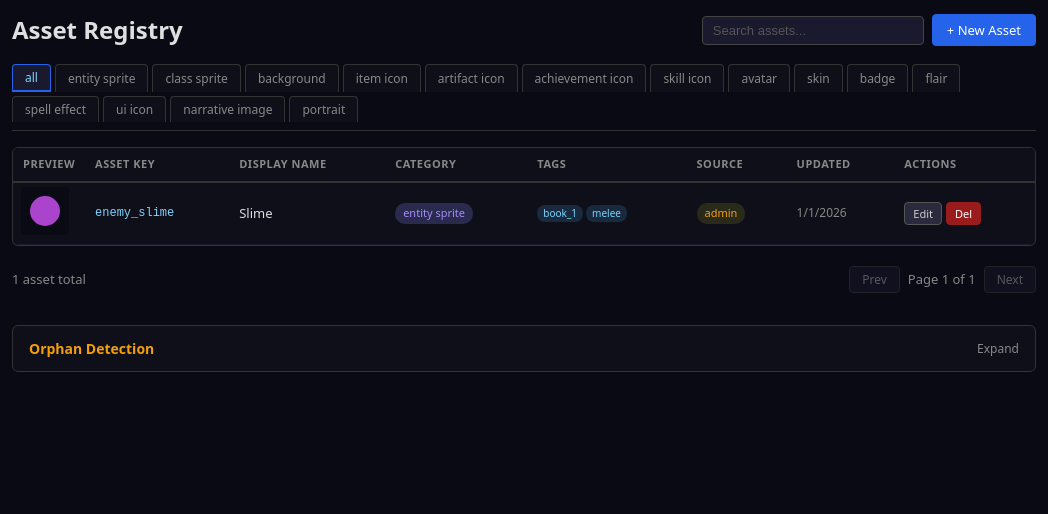
AssetRegistry › opening orphan panel fetches orphan data
This screenshot has width=1048, height=514.
Expected: the text "enemy_slime" is shown, [85, 182, 229, 244]
Click the heading "Orphan Detection": [92, 348] box [29, 338, 154, 359]
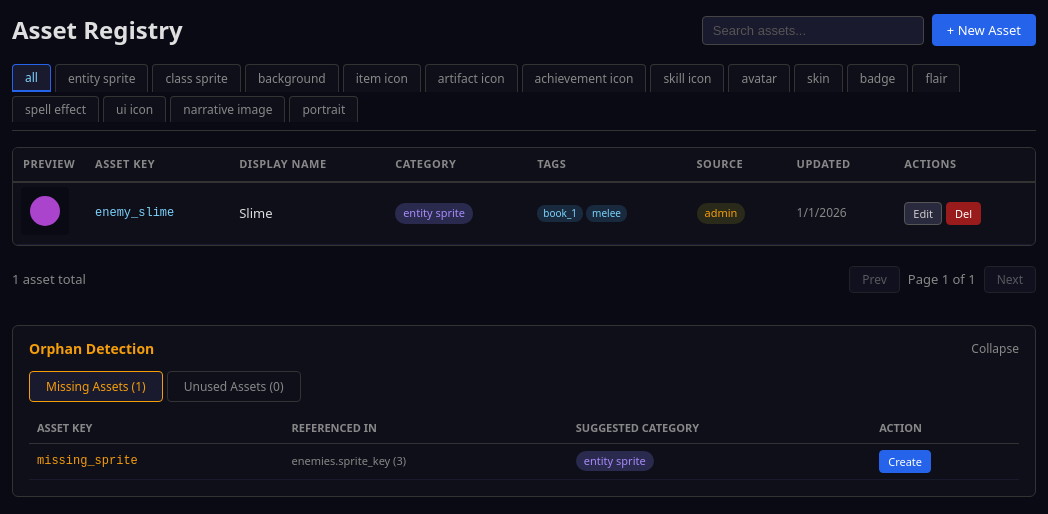
Expected: the text "missing_sprite" is shown, [29, 443, 284, 479]
